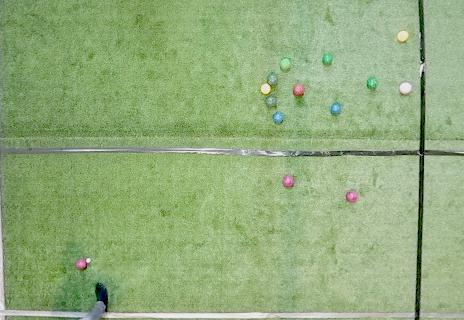blue: (330, 103, 341, 114), (273, 112, 283, 123)
green: (280, 58, 291, 70), (265, 96, 277, 107), (367, 78, 378, 89), (322, 54, 333, 64), (267, 74, 278, 84)
red: (399, 82, 412, 95), (292, 84, 304, 96), (346, 191, 358, 203), (283, 175, 294, 188), (76, 259, 86, 269)
vline: (414, 1, 464, 319), (0, 1, 8, 319)
white: (86, 258, 91, 263)
yellow: (397, 31, 409, 42), (261, 83, 271, 94)
